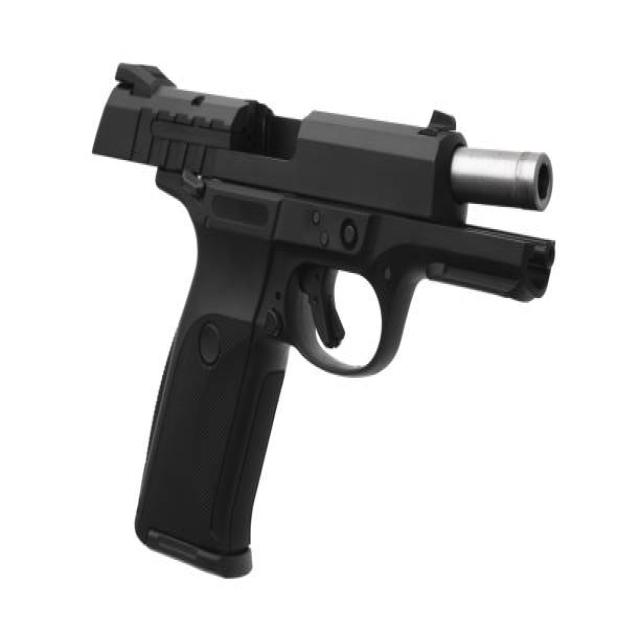pistol: (91, 54, 567, 591)
